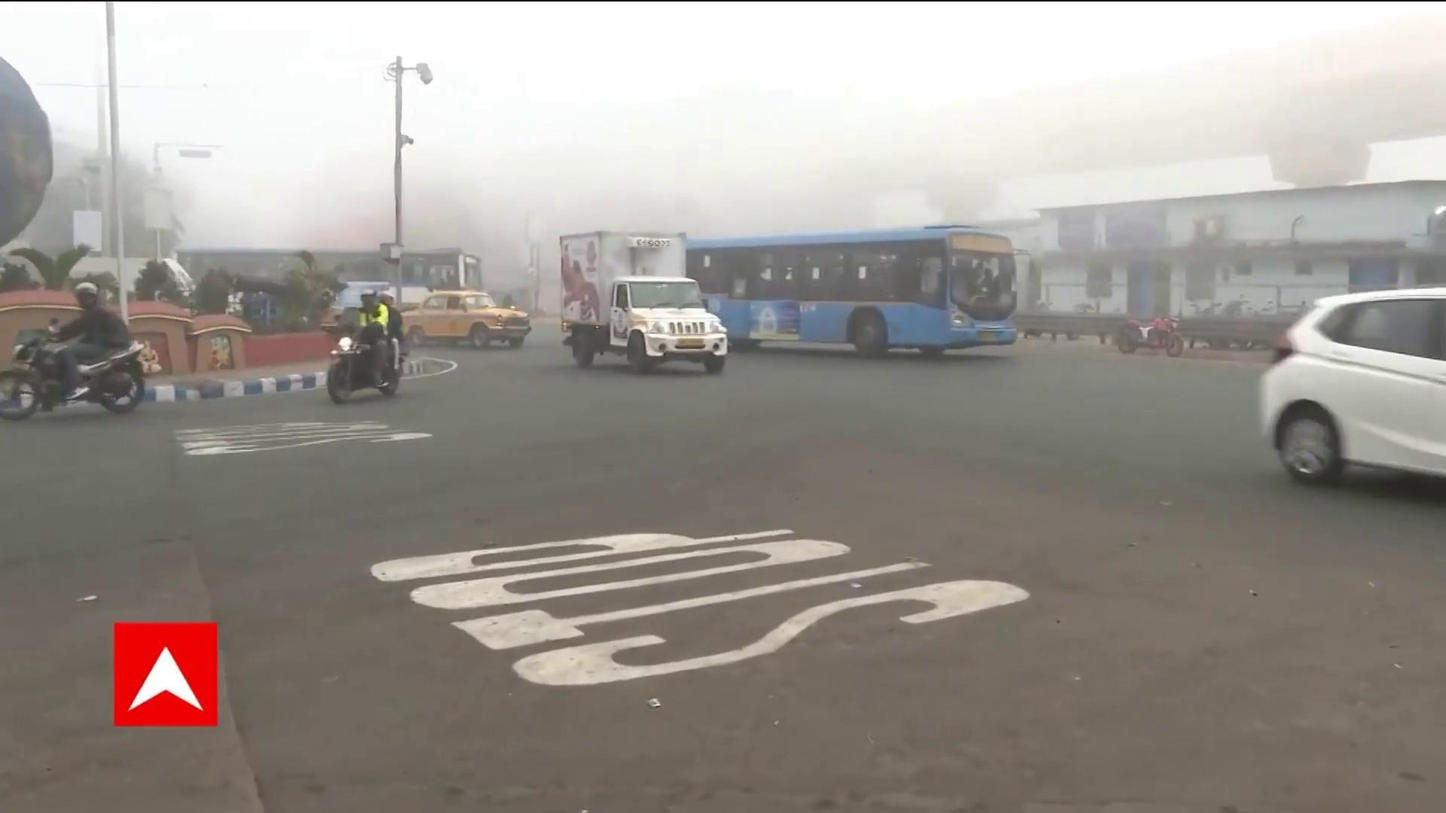Bike: (6, 283, 152, 433), (320, 283, 409, 413)
Bus: (689, 225, 1023, 358)
Car: (1265, 286, 1446, 493), (403, 289, 538, 356)
Truck: (557, 230, 728, 378)
